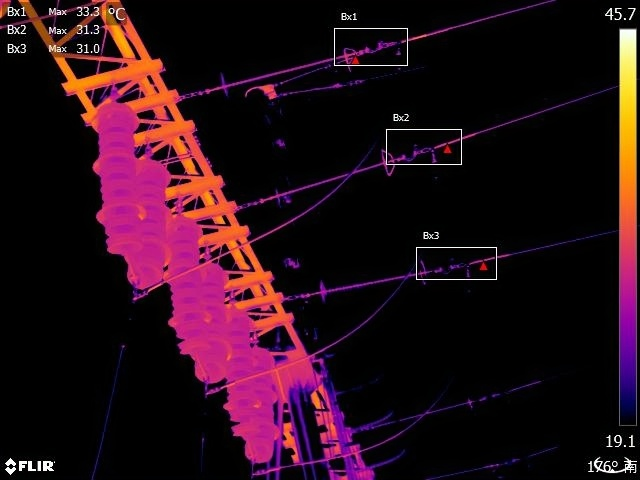insulator: (271, 145, 394, 212), (217, 40, 355, 99), (89, 107, 142, 254), (124, 150, 172, 291), (193, 252, 238, 387), (318, 257, 428, 309), (166, 210, 202, 338), (243, 346, 283, 460), (226, 294, 258, 433)
